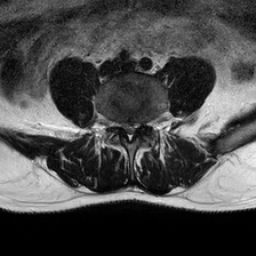CCS_normal: (126, 114, 133, 146)
LFS_severe_stenosis: (139, 114, 146, 136)
LLS_severe_stenosis: (133, 114, 140, 136)
RFS_stenosis: (114, 113, 121, 132)
RLS_stenosis: (121, 113, 126, 133)
